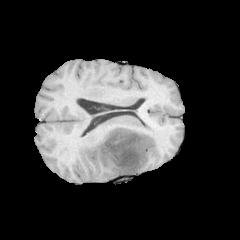glioma: (75, 115, 170, 179)
